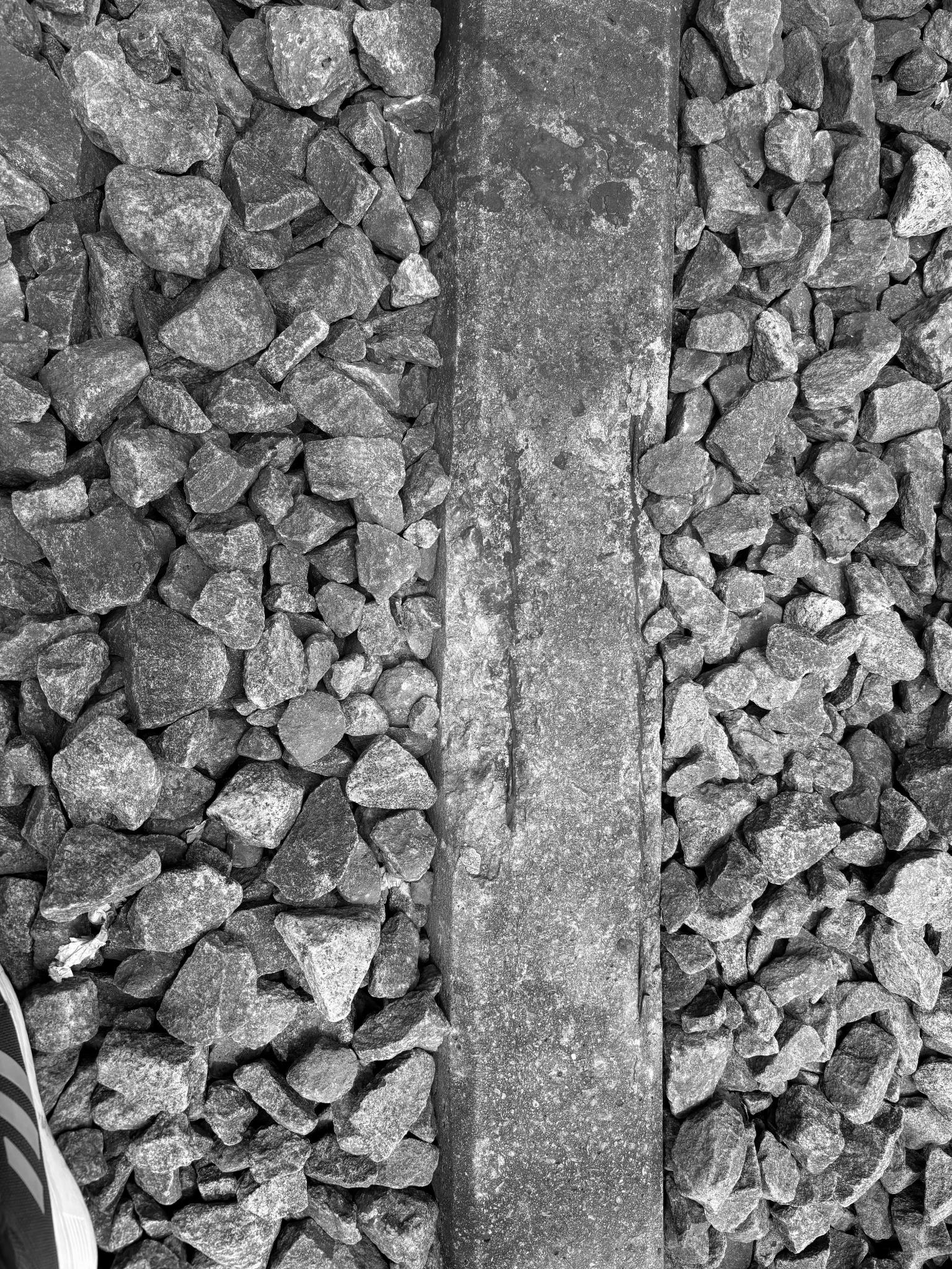cracks in midportion: (620, 398, 664, 1105), (498, 439, 527, 833)
